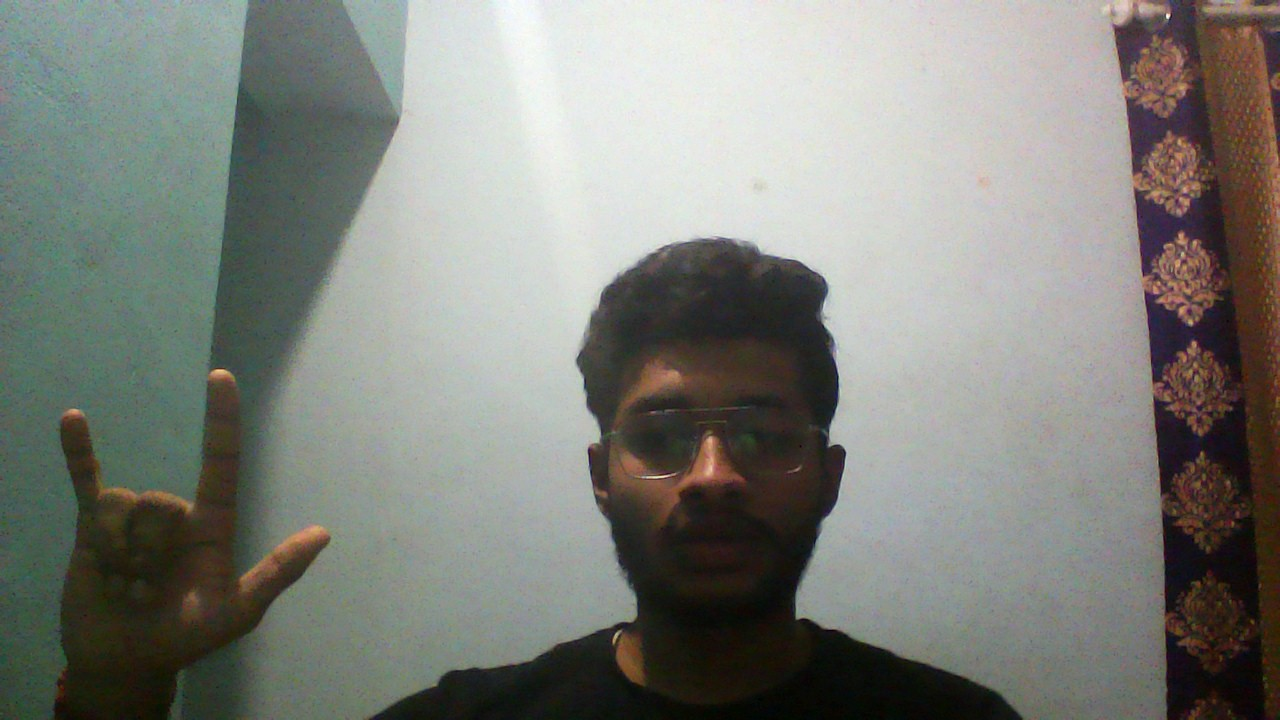I love you: (44, 361, 337, 669)
